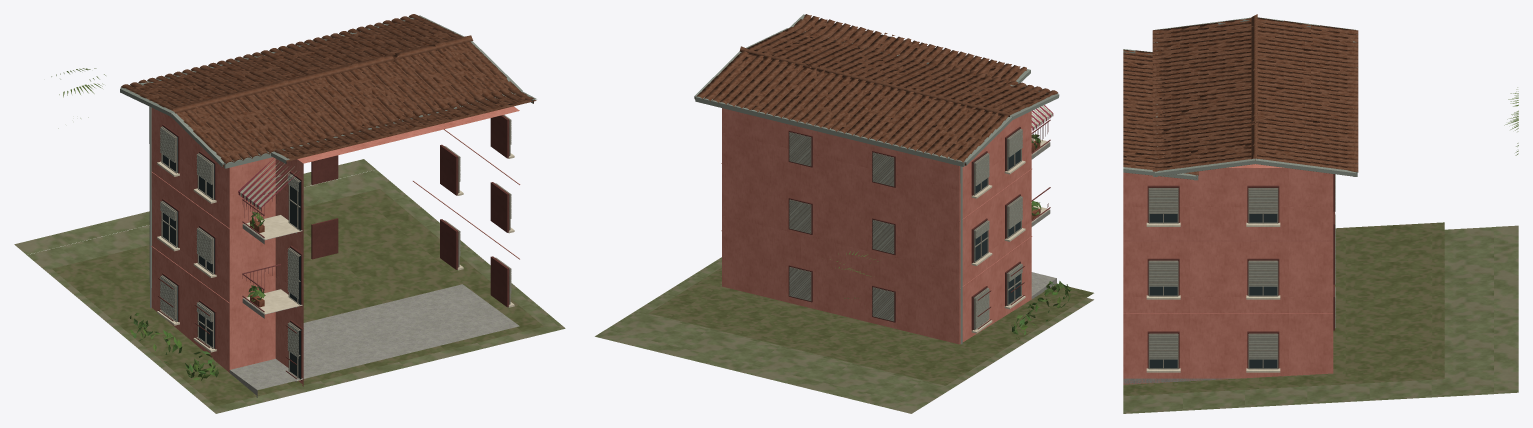
The picture shows the model from 3 angles, left to right: view 1: azimuth 30°, elevation 25°; view 2: azimuth 150°, elevation 25°; view 3: azimuth 270°, elevation 25°; orthographic projection. The views are drawn at different scales.
Size of the model in its own units: 16 by 10.94 by 16.
Materials: 17 (15 with a texture image).
